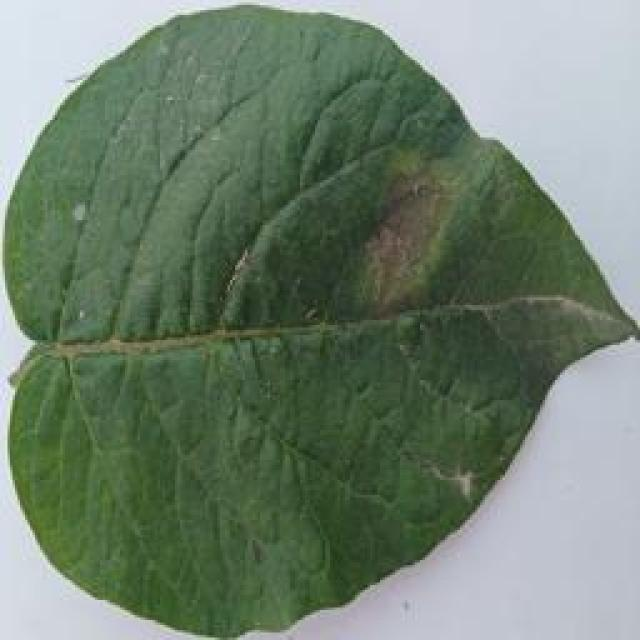Potato_Late_Blight: (7, 9, 629, 634)
